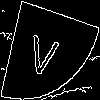V: (24, 24, 63, 79)
